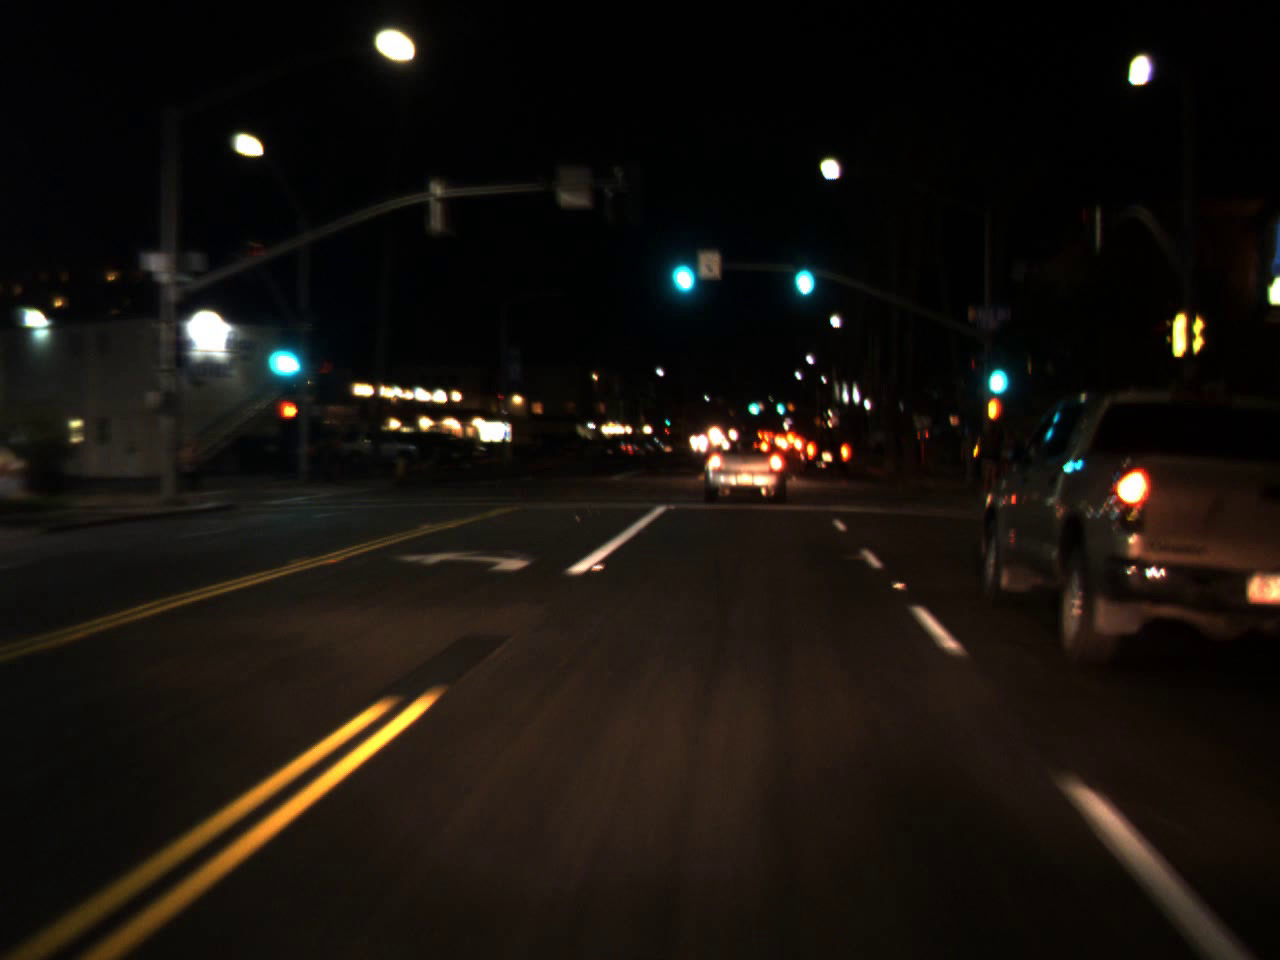go: (256, 312, 308, 390), (662, 228, 699, 303), (787, 238, 819, 304), (983, 338, 1011, 404), (775, 389, 785, 419), (745, 395, 761, 413), (664, 412, 671, 427)
